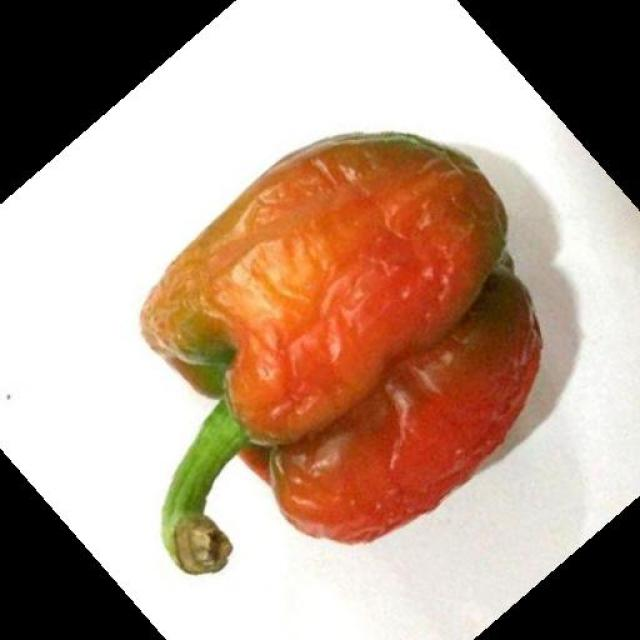Stale_Capsicum: (121, 117, 547, 574)
